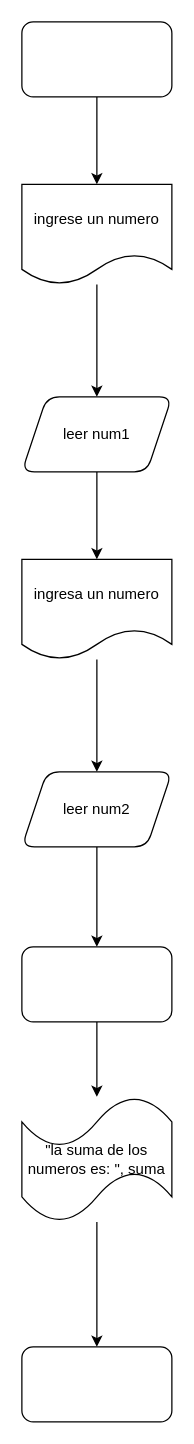
Image size: 194x1444. Some labels were removed from this diagram. The shapes that lost their labels are listed below. From the top down, each one's centre as x and y in pixels, then its label:
the point at 96,59: inicio
the point at 96,984: suma = num1 + num2
the point at 96,1384: fin
